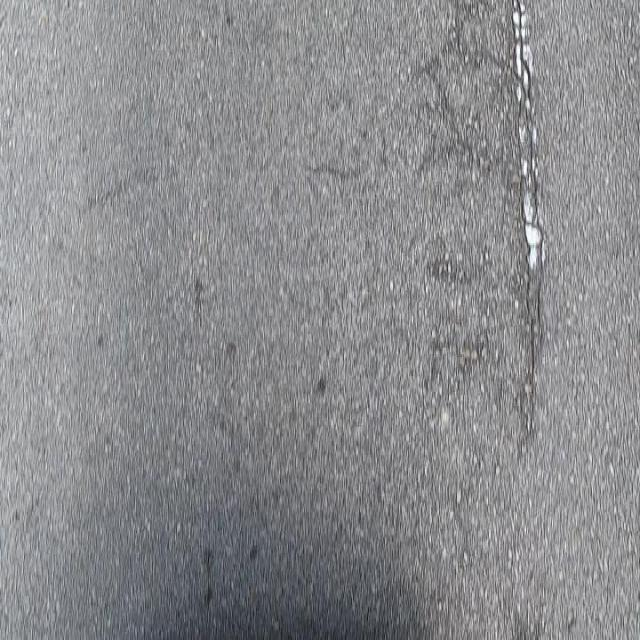cracks: (480, 3, 581, 501)
